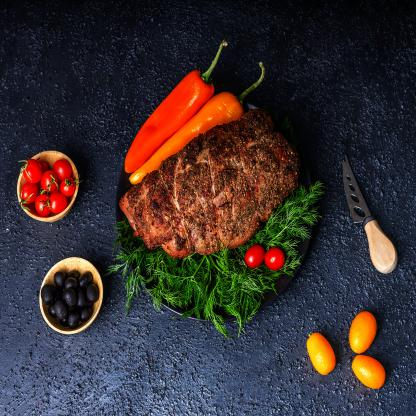Carne: (115, 122, 302, 259)
